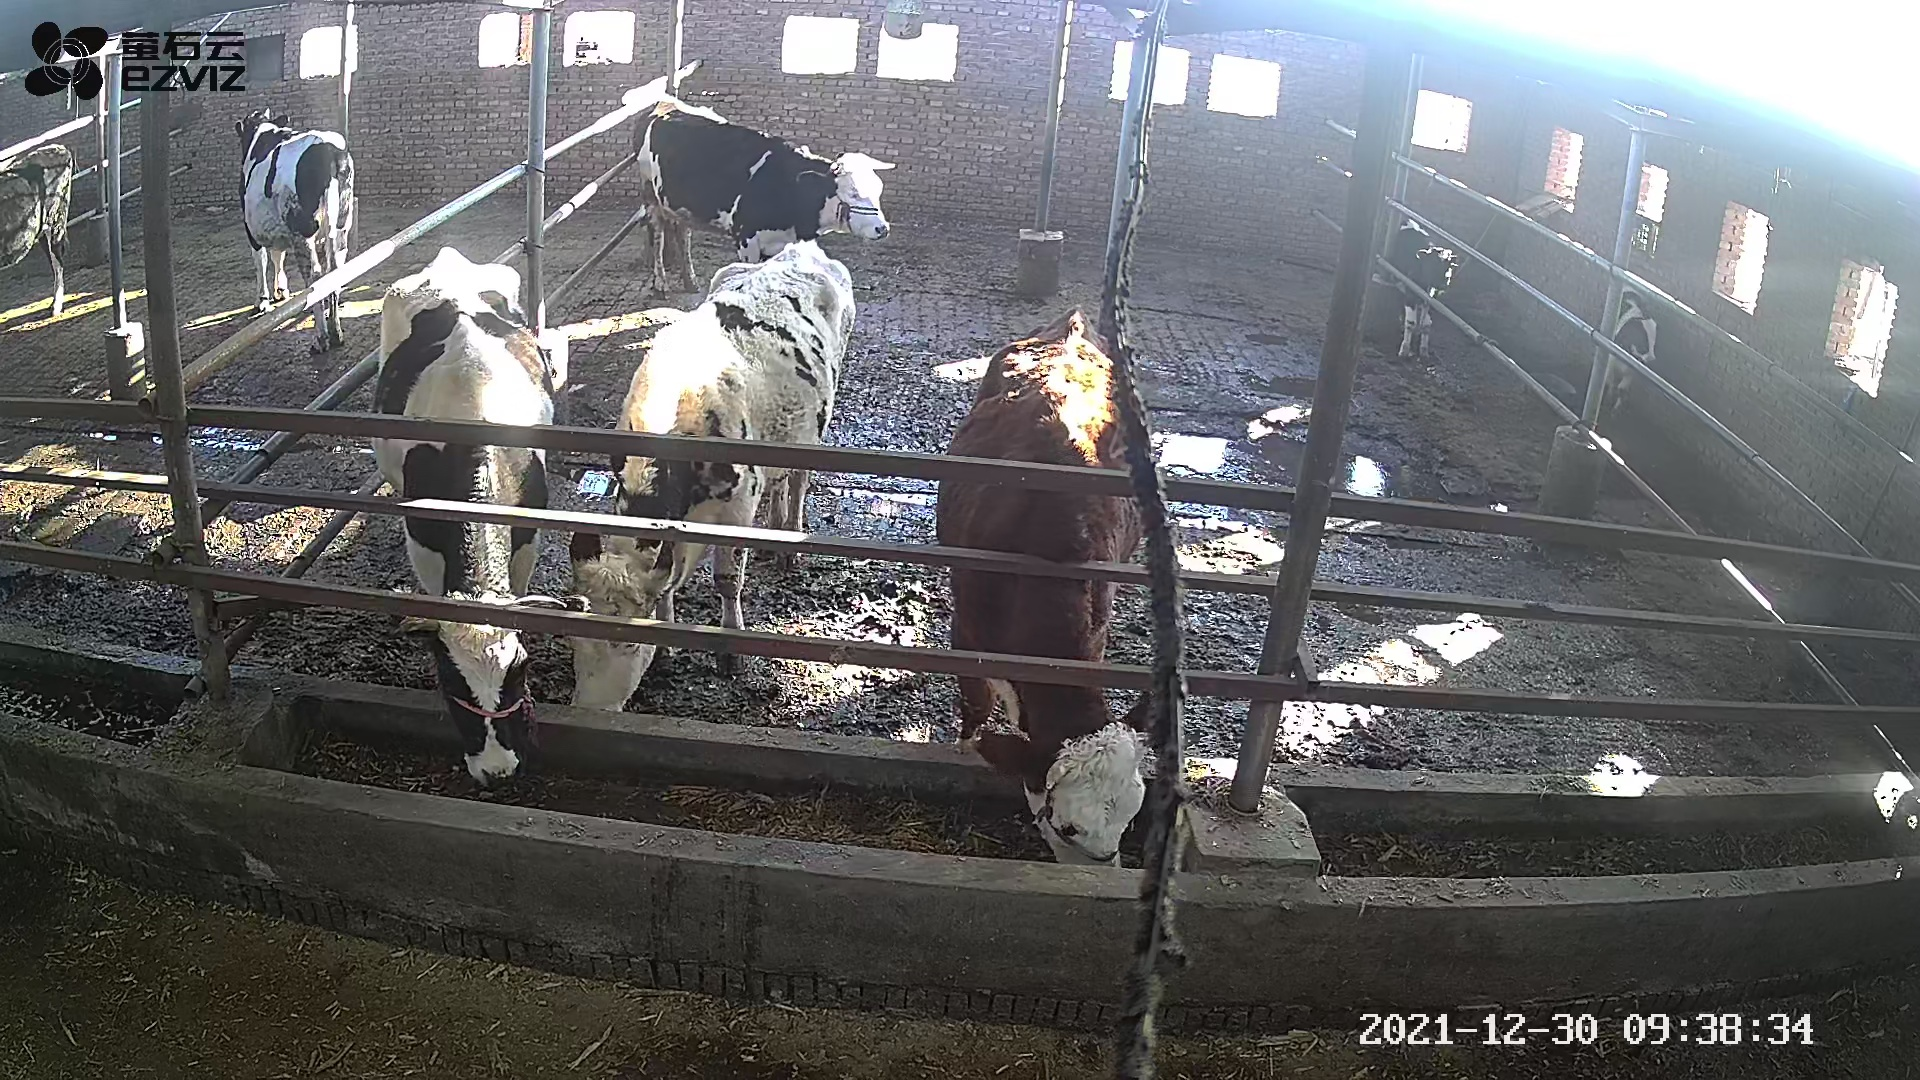cow: (568, 237, 856, 712), (934, 302, 1151, 868), (371, 247, 568, 791), (629, 95, 898, 302)
